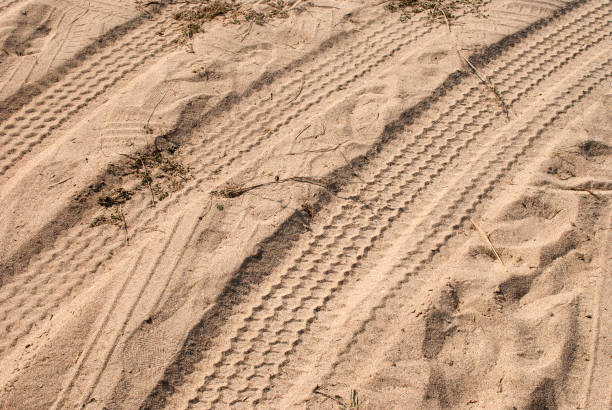vehicle_track: (0, 226, 122, 349), (207, 291, 290, 380)
